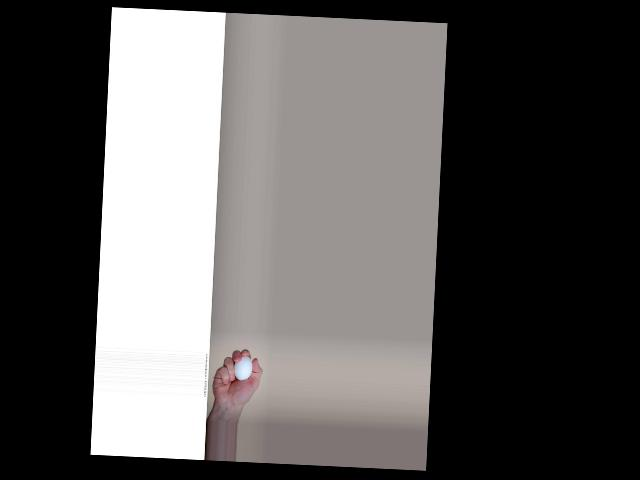egg: (233, 356, 252, 381)
